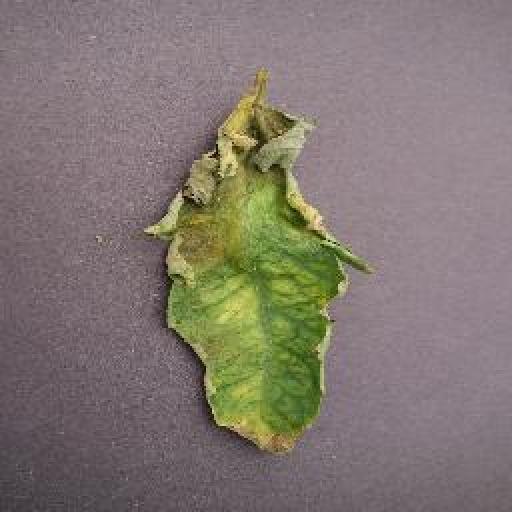disease_tomato: (140, 100, 371, 461)
